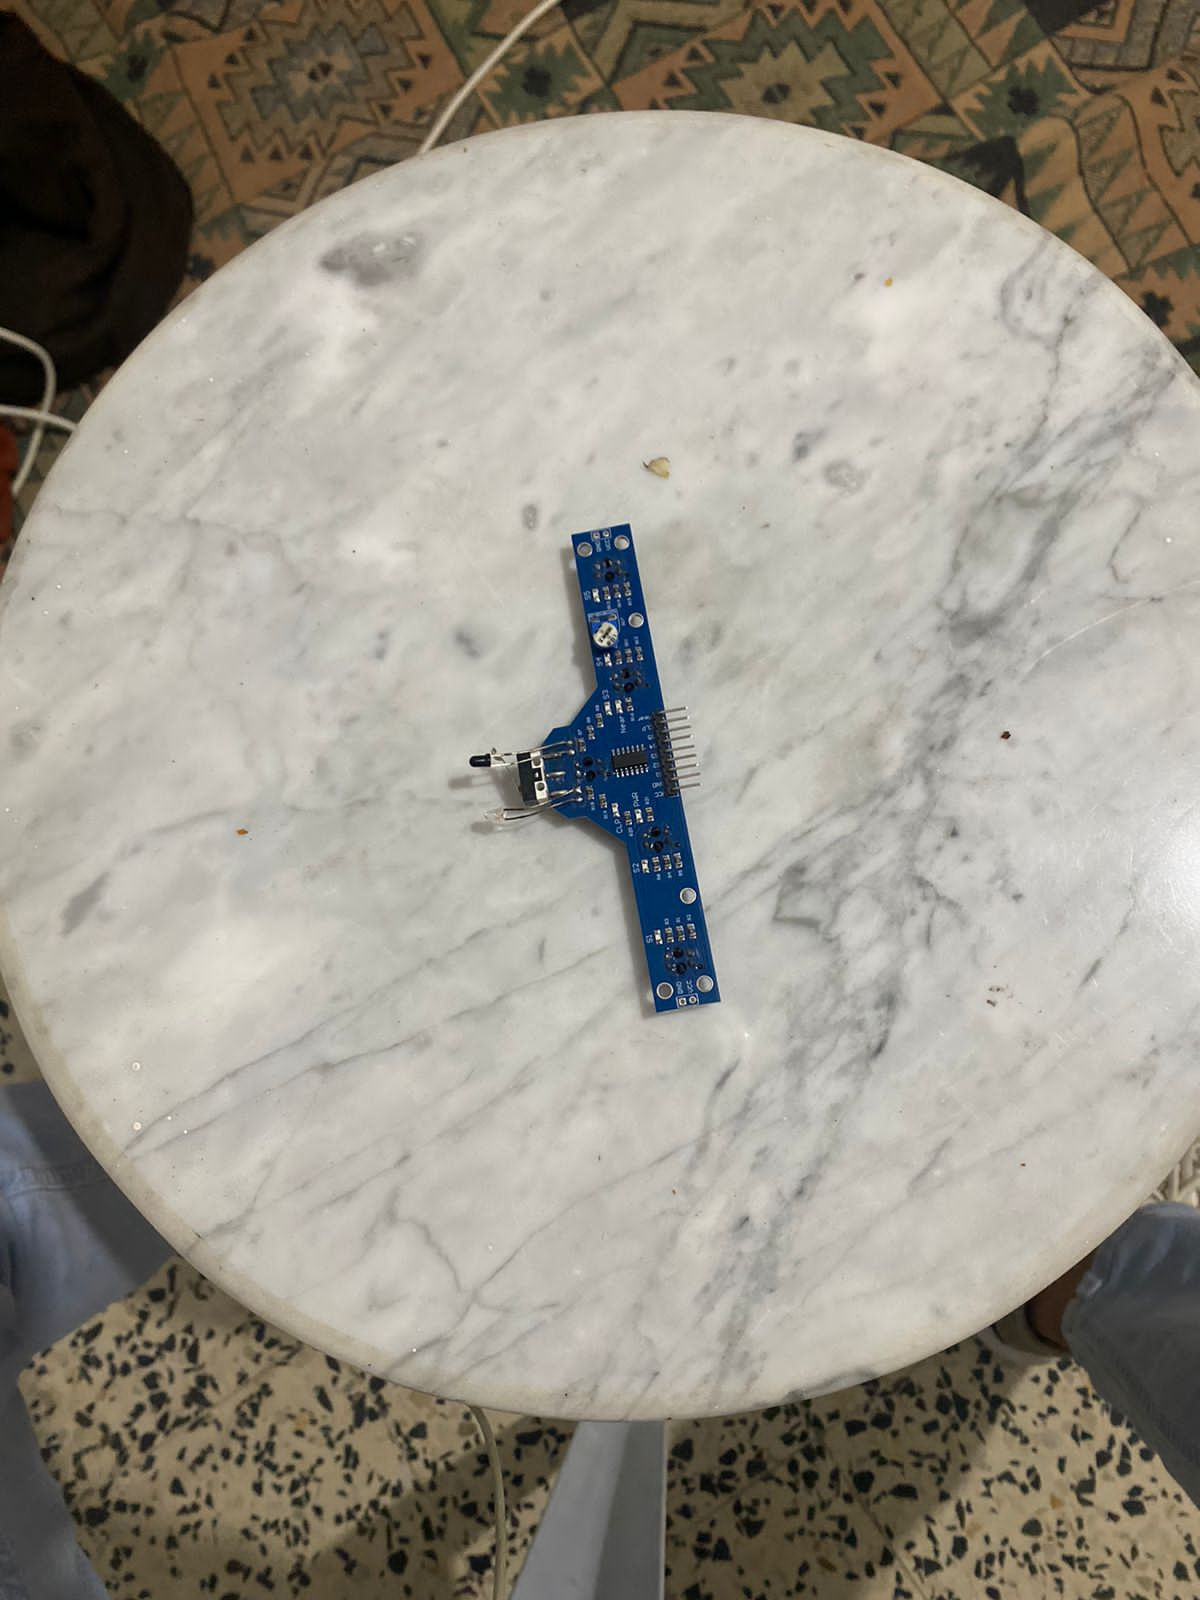Capteur-IR-5 Voies: (468, 522, 726, 1027)
